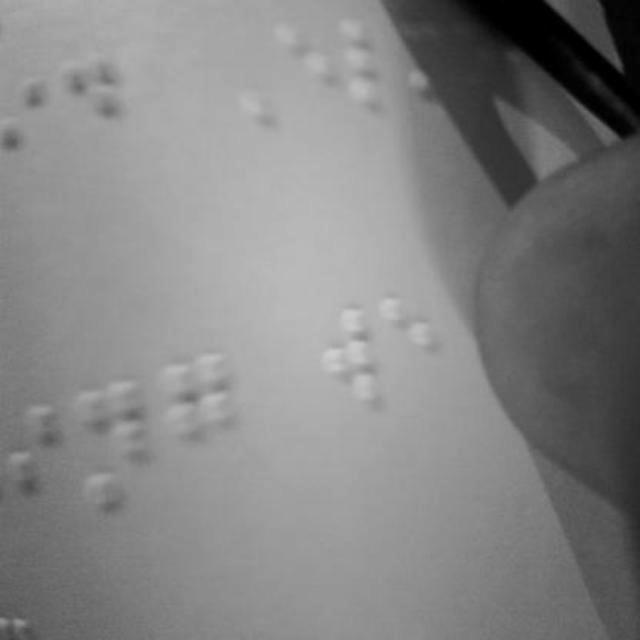braiile: (73, 373, 154, 523), (156, 350, 234, 486), (0, 68, 70, 202), (4, 398, 66, 548), (380, 288, 448, 414), (310, 303, 380, 421), (64, 51, 128, 178), (280, 25, 340, 135), (341, 17, 404, 121)
